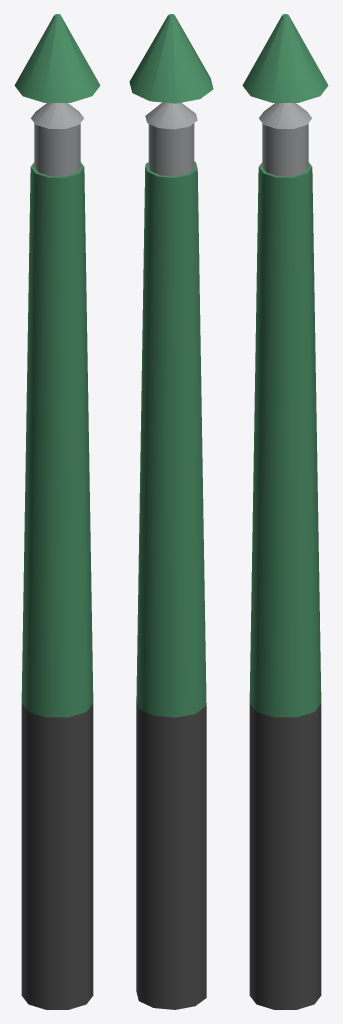
Rendered from buoy-spar-green.glb.
The picture shows the model from 3 angles, left to right: view 1: azimuth 90°, elevation 25°; view 2: azimuth 150°, elevation 25°; view 3: azimuth 270°, elevation 25°; orthographic projection.
Parts seen in each view (by area): view 1: buoy-spar-green; view 2: buoy-spar-green; view 3: buoy-spar-green.
Boxes of the visible parts, x1,y1,x2,y2 form: buoy-spar-green: (14, 14, 100, 1009); buoy-spar-green: (129, 14, 213, 1009); buoy-spar-green: (242, 14, 328, 1009).
Size of the model in its own units: 0.4565 by 6.03 by 0.48.
